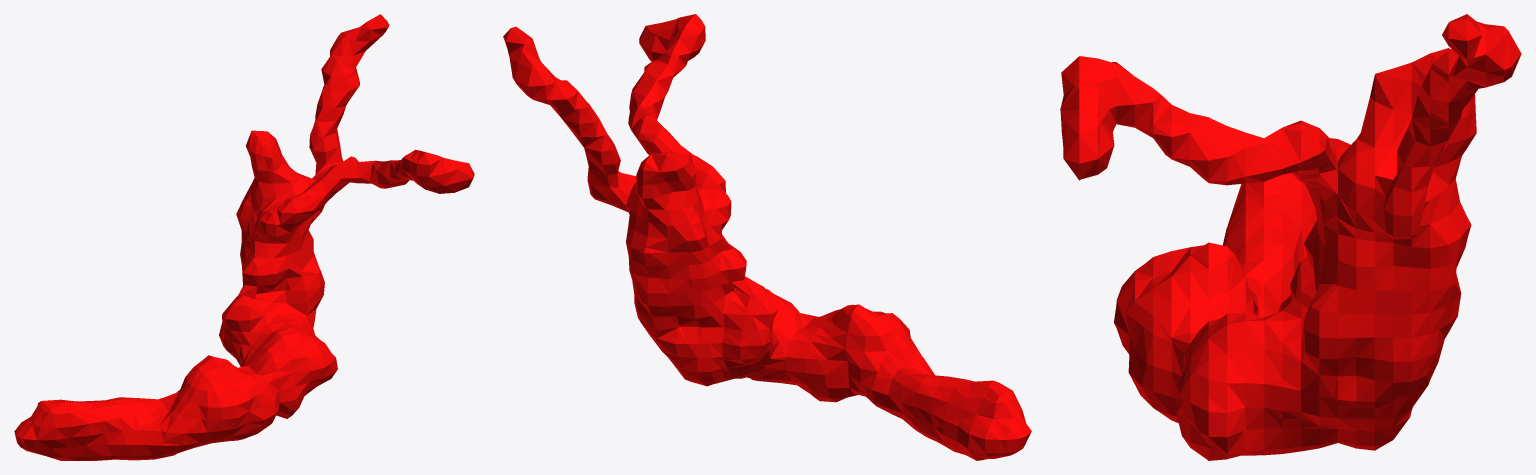
File: mdtA_coarse.dae
3 renders of one model, left to right at view 1: azimuth 30°, elevation 25°; view 2: azimuth 150°, elevation 25°; view 3: azimuth 270°, elevation 25°, orthographic. The views are drawn at different scales.
Visible parts, largest first — view 1: mdtA; view 2: mdtA; view 3: mdtA.
Part boxes in pixels (box(x1,y1,x2,y2)): mdtA: box(14, 14, 474, 460); mdtA: box(503, 14, 1031, 460); mdtA: box(1060, 14, 1521, 460).
Size of the model in its own units: 156 by 117 by 80.2.
